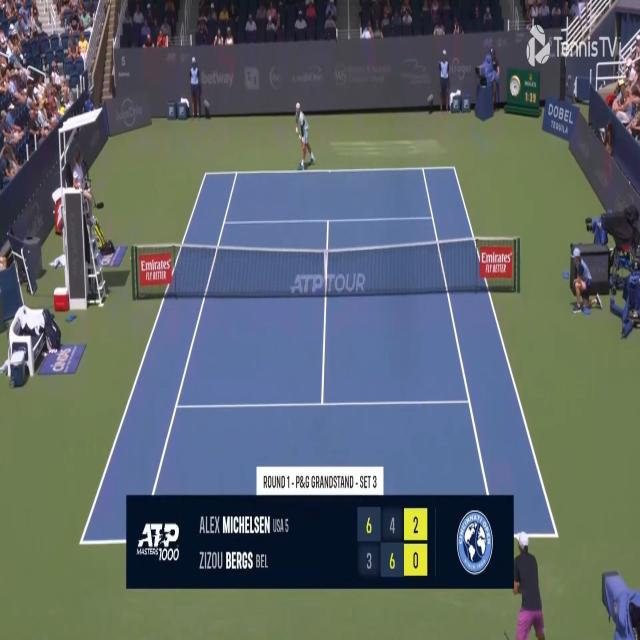tennis-player: (505, 528, 548, 638), (292, 99, 316, 172)
